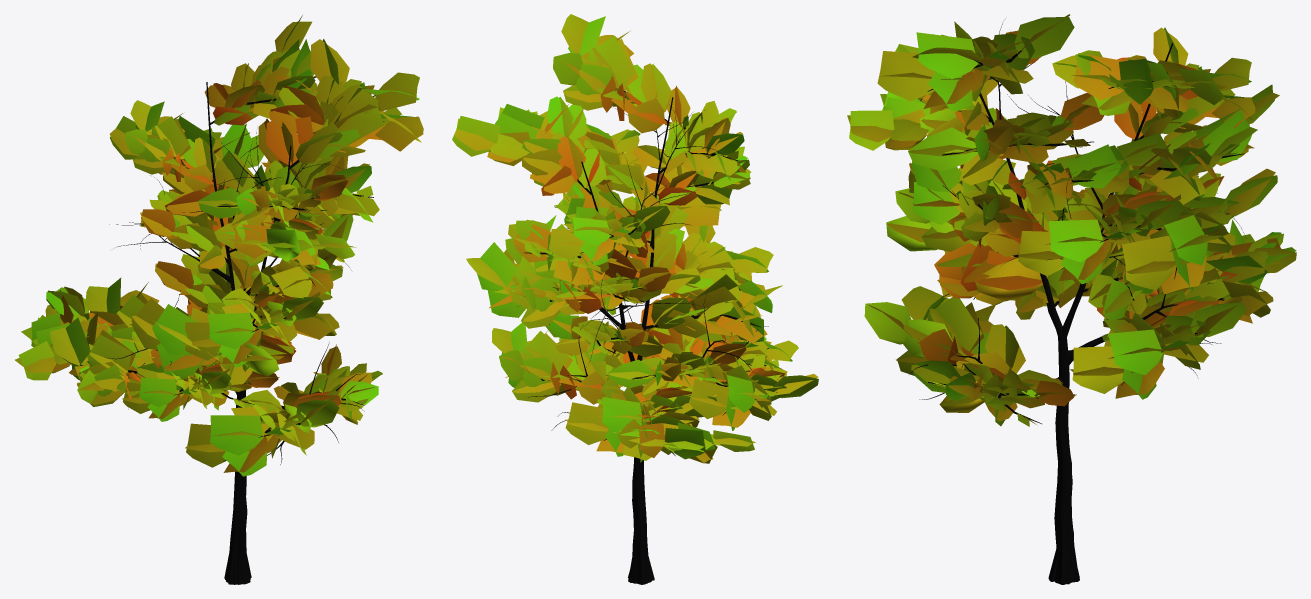
File: Tree_tall_2.glb
3 views of the same model, side by side, from view 1: azimuth 30°, elevation 25°; view 2: azimuth 150°, elevation 25°; view 3: azimuth 270°, elevation 25° (orthographic). The views are drawn at different scales.
Visible parts, largest first — view 1: Tree tall 2; view 2: Tree tall 2; view 3: Tree tall 2.
Boxes of the visible parts, box(x1,y1,x2,y2) form: Tree tall 2: box(15, 15, 423, 584); Tree tall 2: box(452, 14, 818, 584); Tree tall 2: box(847, 14, 1296, 584).
Size of what is drawn, in the model's own units: 46.99 by 76.66 by 51.11.
